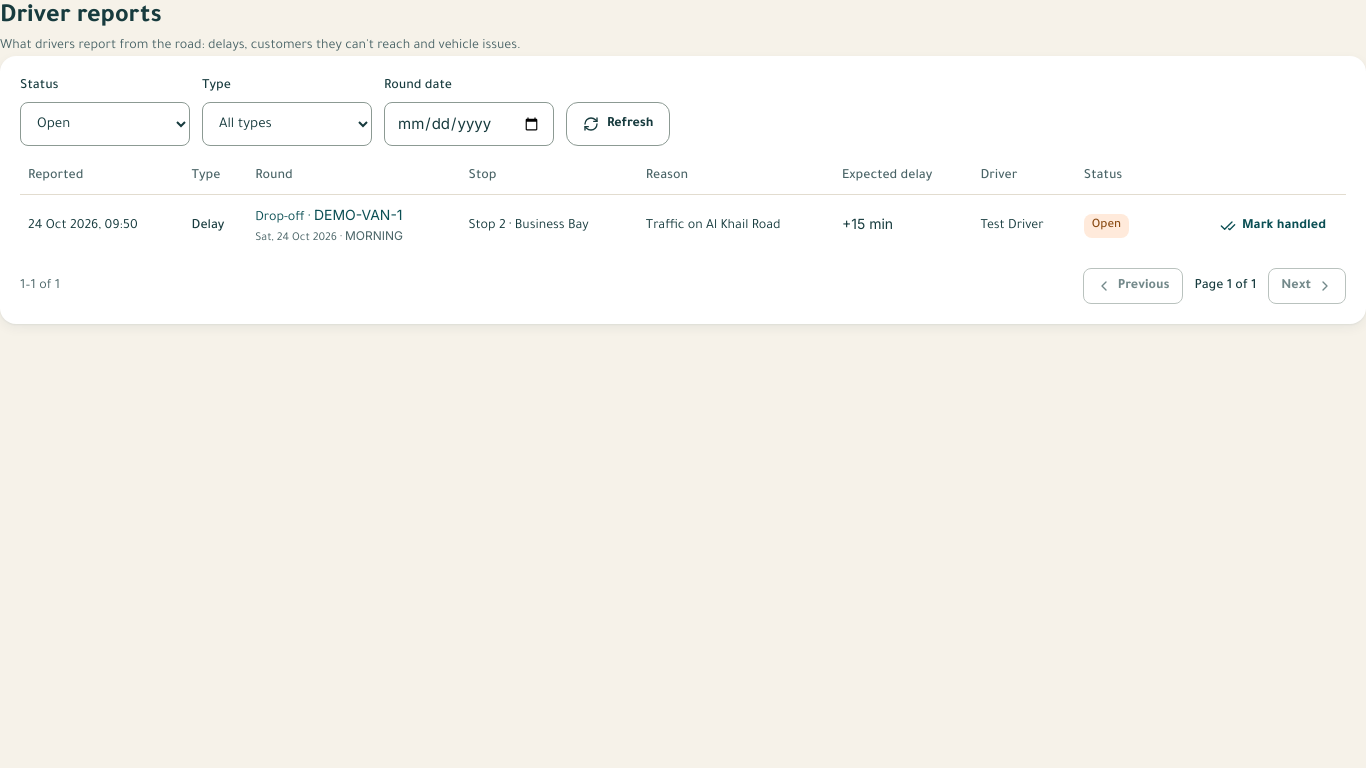
A06 driver reports › shows the API's refusal (a report already closed meanwhile)
The image size is (1366, 768).
Click the button with aria-label "Mark handled: Delay on DEMO-VAN-1": (1273, 226) [1208,208,1338,244]
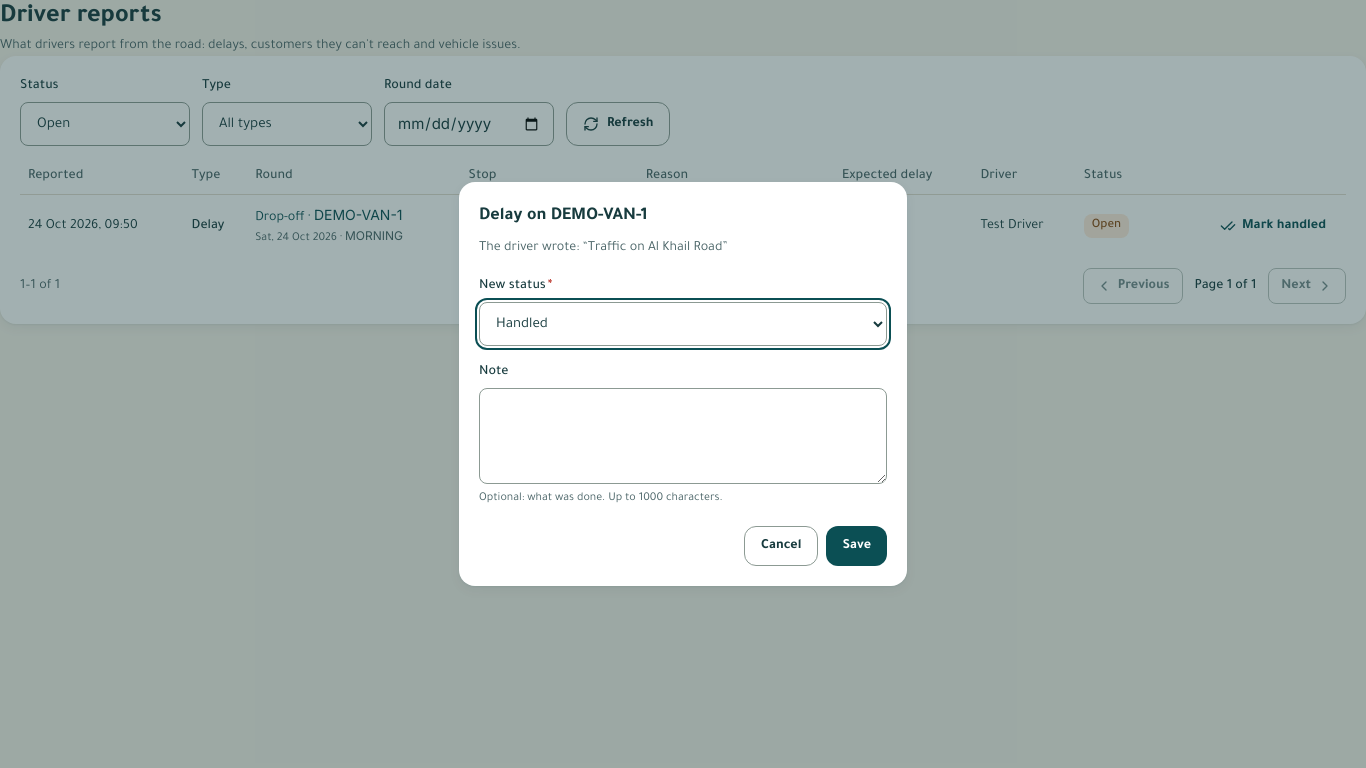
Select "Seen" in the dropdown labelled "New status*": (683, 324) [479,302,887,346]
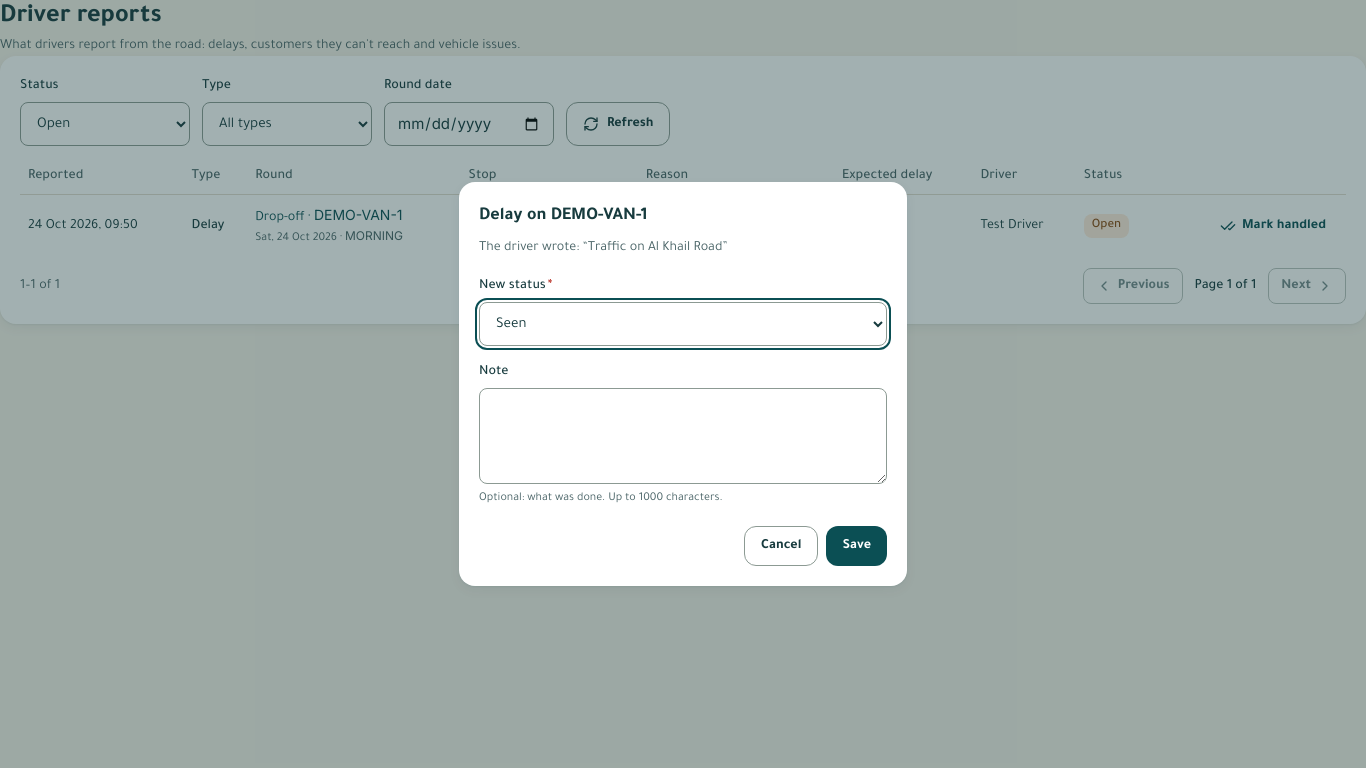
Click the button "Save": (857, 546) [826,526,887,566]
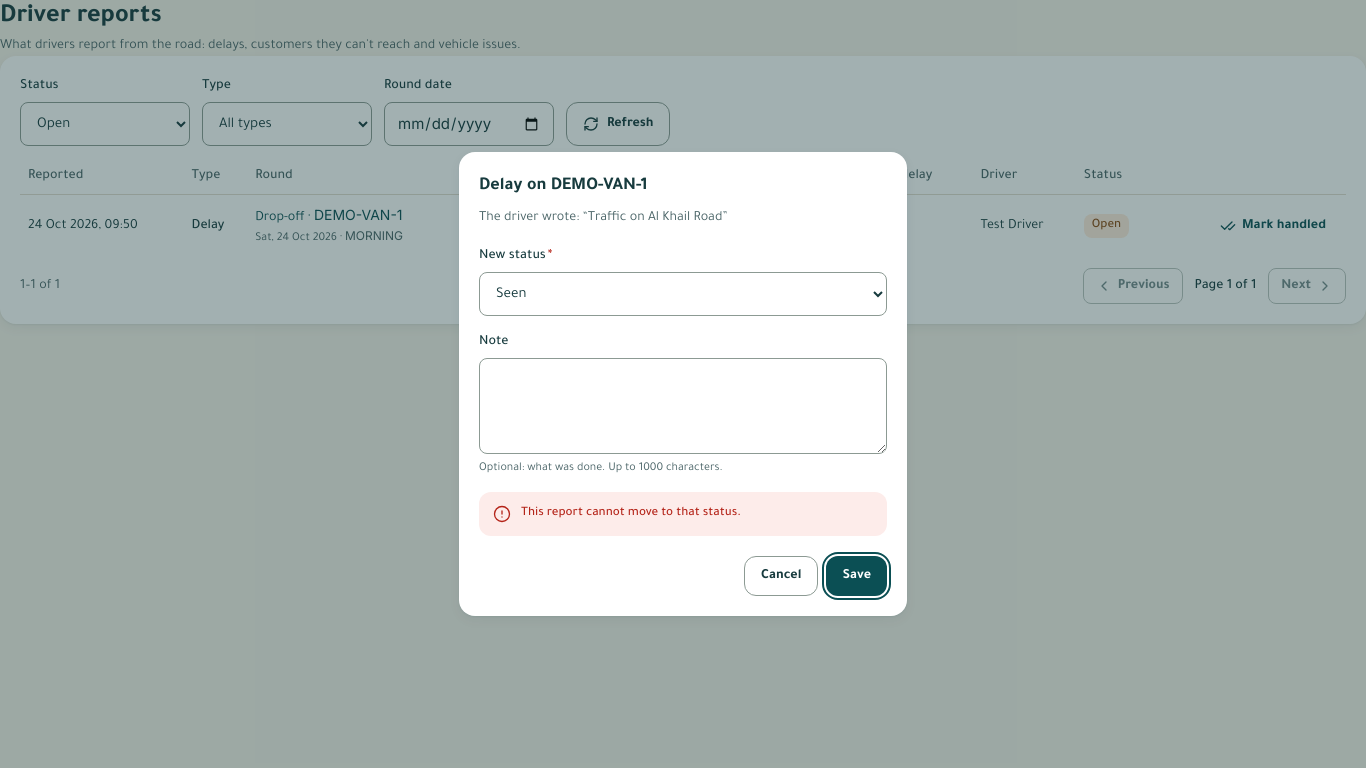
Expected: the text "This report cannot move to that status." is shown, [521,507,741,520]
